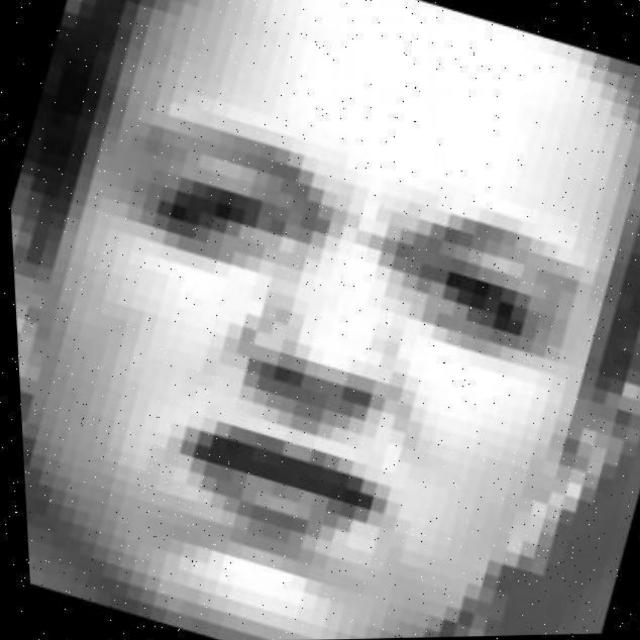Disgust: (2, 56, 640, 610)
